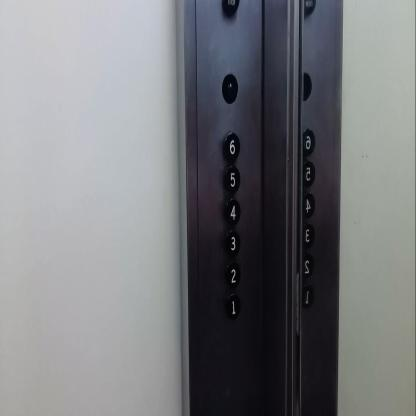1: (225, 291, 241, 319)
2: (225, 259, 241, 290)
3: (224, 228, 242, 258)
4: (224, 197, 241, 226)
5: (224, 164, 240, 195)
6: (223, 131, 240, 163)
blur: (222, 72, 238, 105)
unknown: (300, 222, 316, 248), (300, 191, 315, 218), (300, 281, 315, 308), (300, 160, 315, 186), (300, 252, 315, 278), (302, 127, 315, 155)
